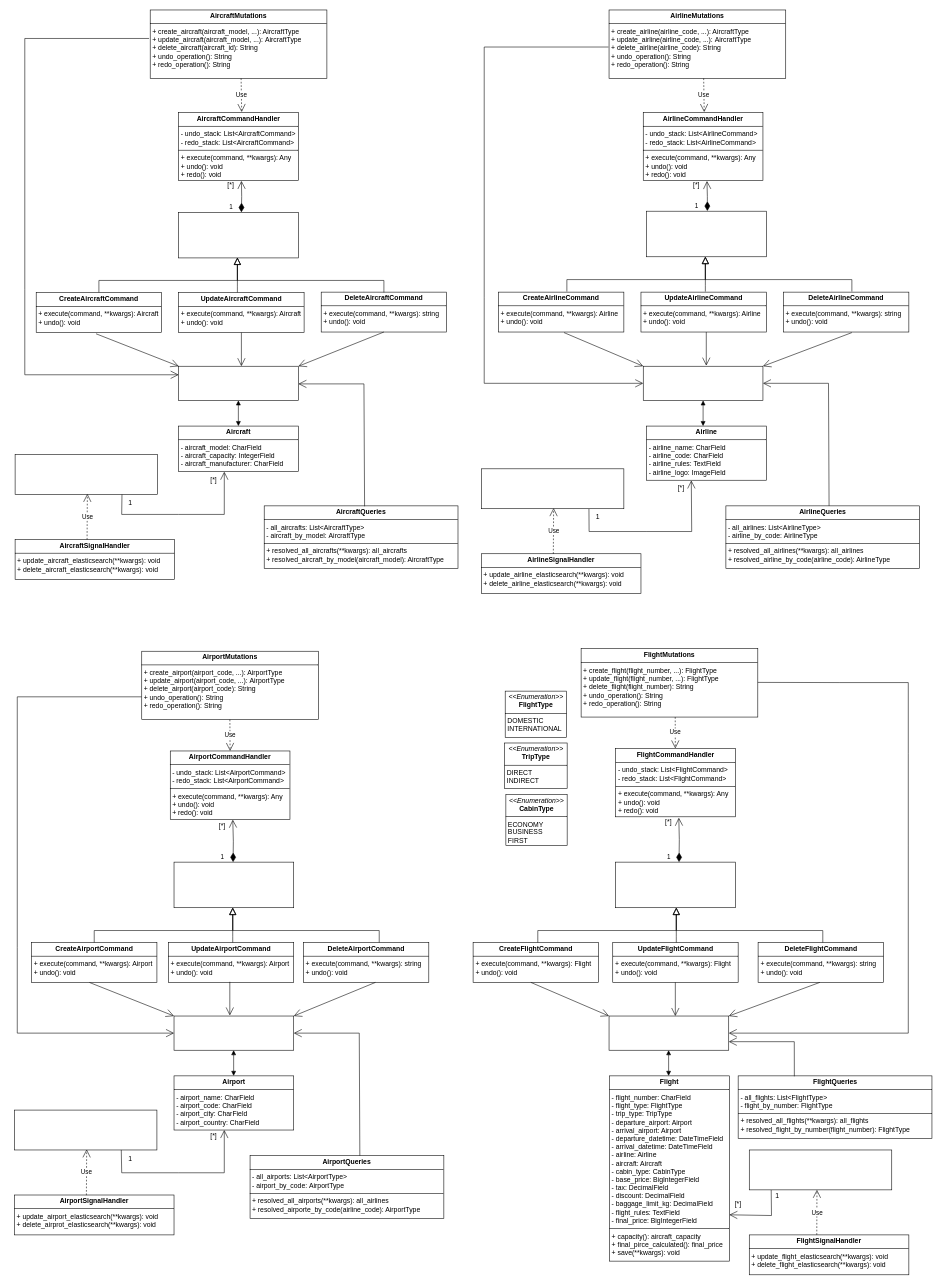
This 942x1285 diagram has some shape labels left out. Here are the shapes that lost their labels. From the top down, the box of each, then its label:
(178, 212, 298, 258): <<abstract>> AircraftCommand + execute(**kwargs): void + undo(**kwargs): void
(646, 211, 766, 257): <<abstract>> AirlineCommand + execute(**kwargs): void + undo(**kwargs): void
(178, 366, 298, 400): AircraftType - model: Aircraft
(643, 366, 763, 400): AirlineType - model: Airline
(15, 454, 158, 494): AircraftDocument + model: Aircraft + fields: List<aircraft_model, ...>
(481, 468, 624, 509): AirlineDocument + model: Airline + fields: List<airline_name, ...>
(173, 862, 294, 908): <<abstract>> AirportCommand + execute(**kwargs): void + undo(**kwargs): void
(615, 862, 735, 908): <<abstract>> FlightCommand + execute(**kwargs): void + undo(**kwargs): void
(173, 1015, 294, 1050): AirportType - model: Airport
(608, 1015, 729, 1050): FlightType - model: Flight
(14, 1110, 157, 1150): AirportDocument + model: Airport + fields: List<airport_ name , ...>
(749, 1149, 892, 1190): FlightDocument + model: Flight + fields: List<flight_ number , ...>
